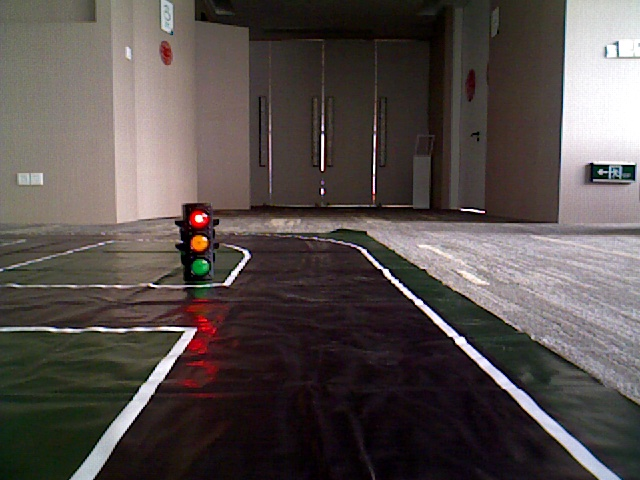red: (182, 205, 209, 277)
